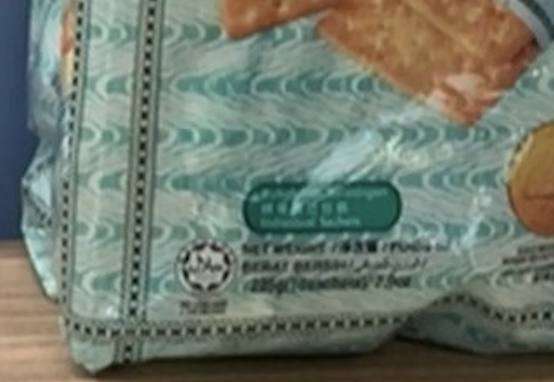halal: (186, 251, 225, 284)
